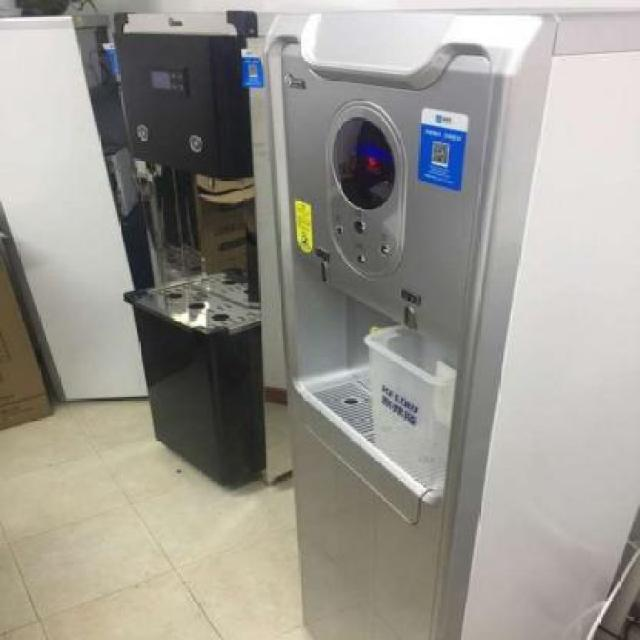cooler: (274, 1, 640, 640), (111, 9, 294, 486)
